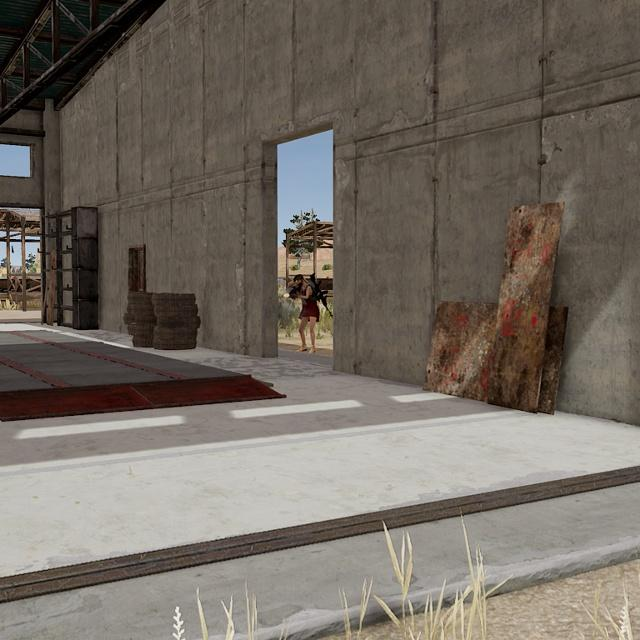head: (291, 272, 306, 289)
people: (289, 272, 323, 356)
